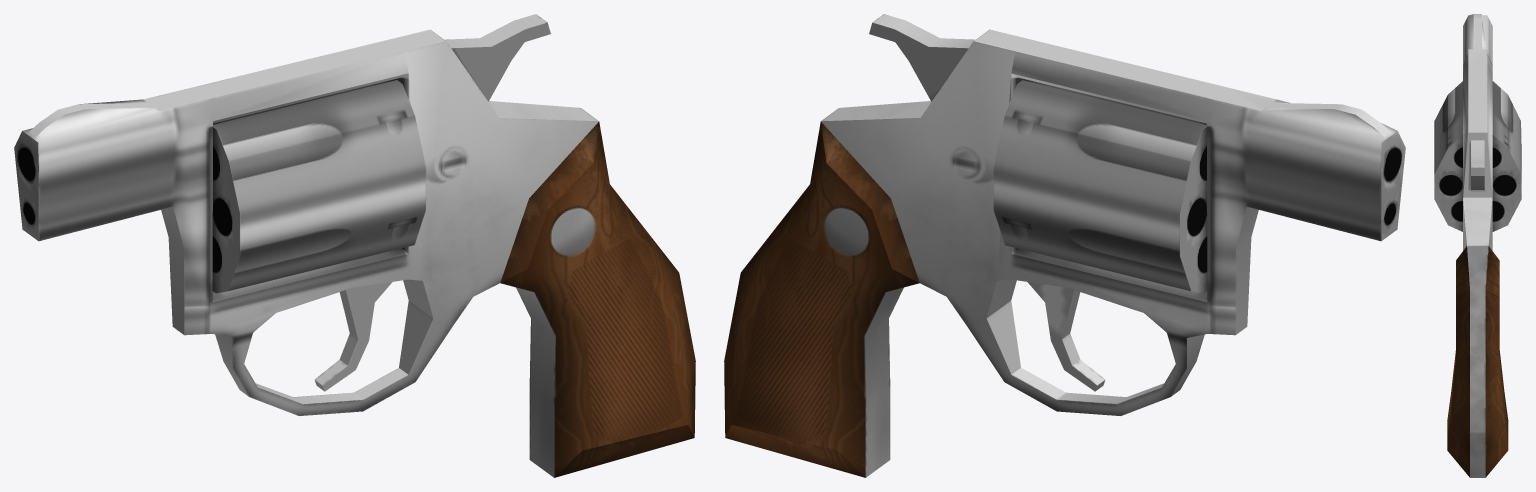
The model's file is gun.FBX.
The picture shows the model from 3 angles, left to right: view 1: azimuth 30°, elevation 25°; view 2: azimuth 150°, elevation 25°; view 3: azimuth 270°, elevation 25°; orthographic projection. The views are drawn at different scales.
Parts seen in each view (by area): view 1: Object001; view 2: Object001; view 3: Object001.
Boxes of the visible parts, x1,y1,x2,y2 form: Object001: (14, 14, 695, 477); Object001: (724, 14, 1405, 477); Object001: (1434, 14, 1521, 477).
Bounding box in the file's own units: 702 × 480 × 134.
